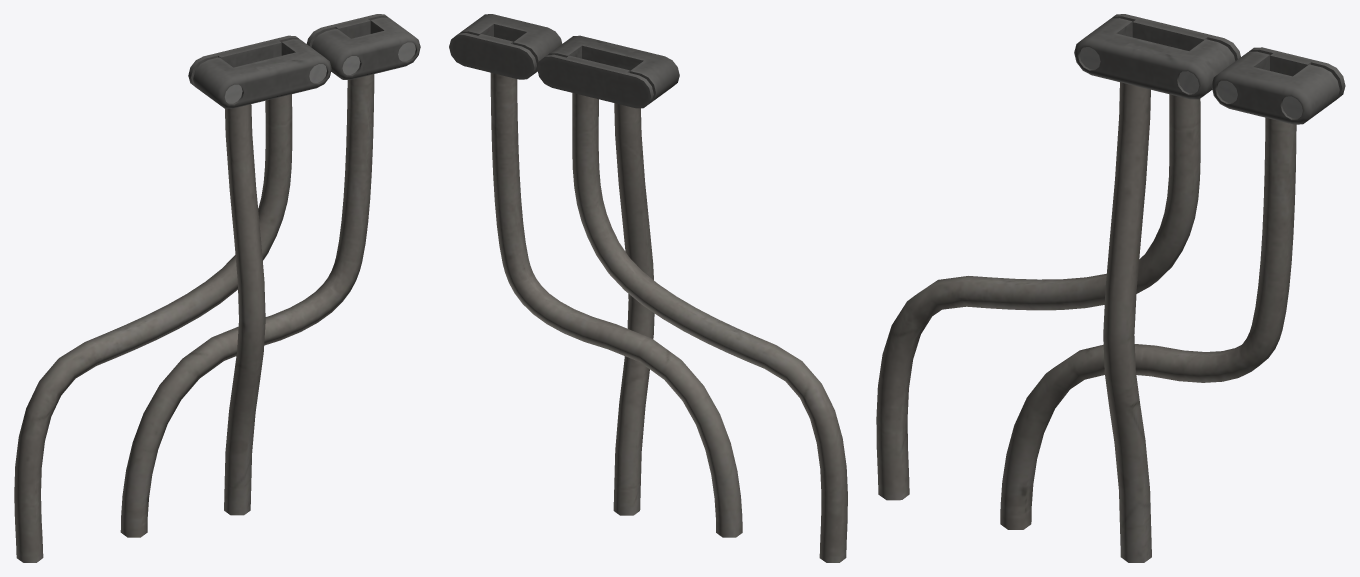
File: cable_3way_junction.glb
3 renders of one model, left to right at view 1: azimuth 30°, elevation 25°; view 2: azimuth 150°, elevation 25°; view 3: azimuth 330°, elevation 25°, orthographic. The views are drawn at different scales.
Visible parts, largest first — view 1: cable_3way_junction.001; view 2: cable_3way_junction.001; view 3: cable_3way_junction.001.
Boxes of the visible parts, x1,y1,x2,y2 form: cable_3way_junction.001: (14,14,420,562); cable_3way_junction.001: (449,14,847,562); cable_3way_junction.001: (876,14,1345,562).
Bounding box in the file's own units: 0.1872 × 0.2087 × 0.0285.
1 material, 1 textured.
